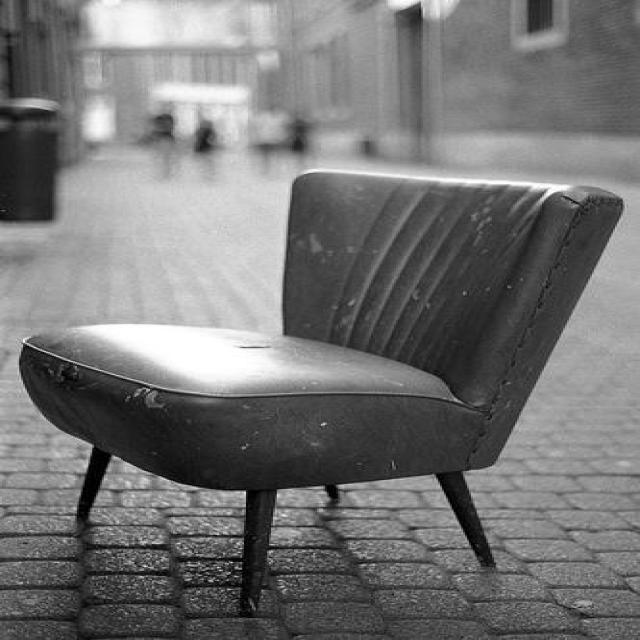chair: (19, 170, 626, 618)
